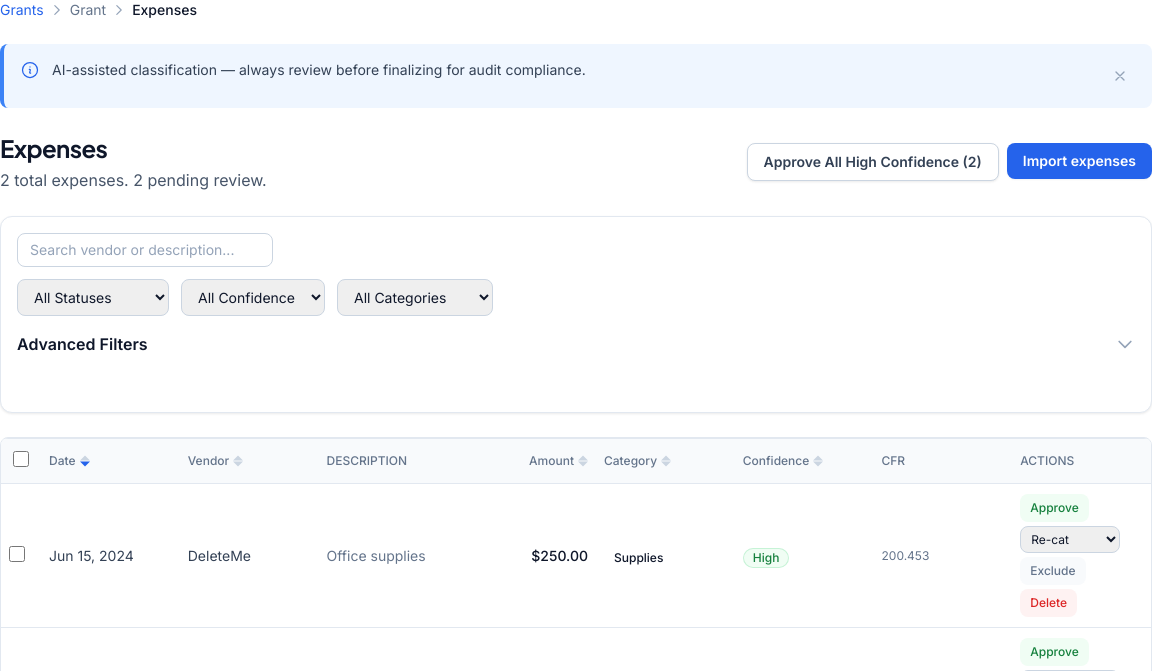
Test: ExpensesPage › optimistic delete removes expense from list
# Click delete on first expense (use aria-label to target desktop)
What coordinates should you click on to do the following:
click the button with aria-label "delete expense from deleteme"
I would click on:
 (1049, 603)
Its box is left=1020, top=589, right=1077, bottom=617.
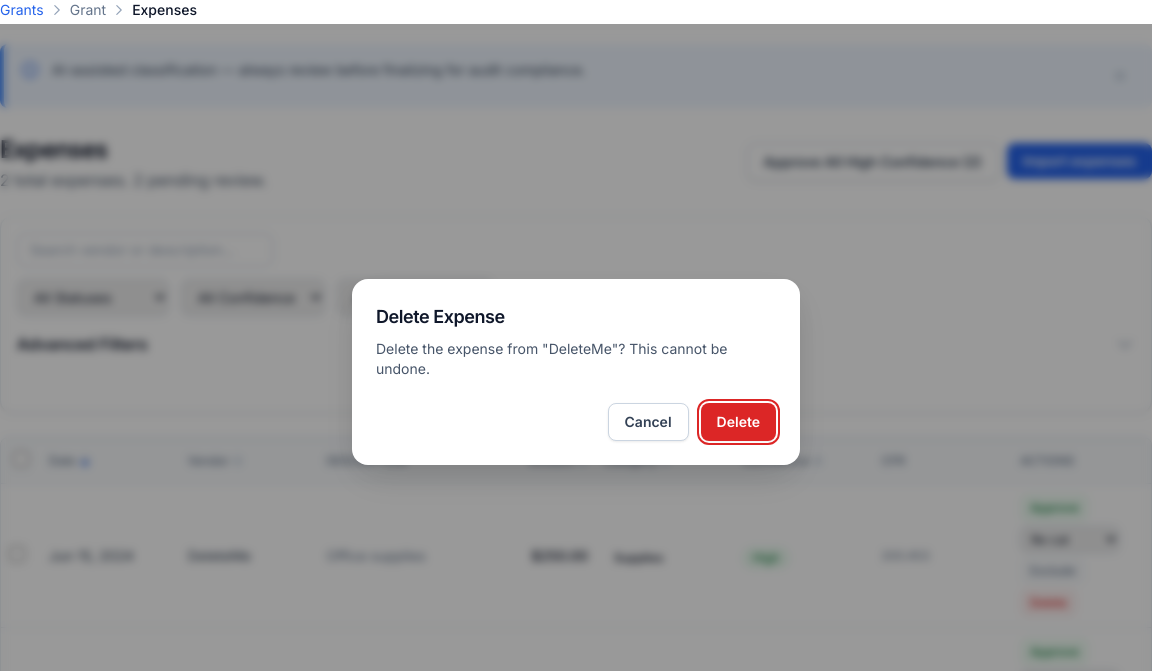
Check: the text "Delete the expense from \"DeleteMe\"? This cannot be undone." is shown, box left=376, top=339, right=776, bottom=379
What coordinates should you click on to do the following:
click the button "Delete"
I would click on:
 (738, 422)
Its box is left=701, top=403, right=776, bottom=441.
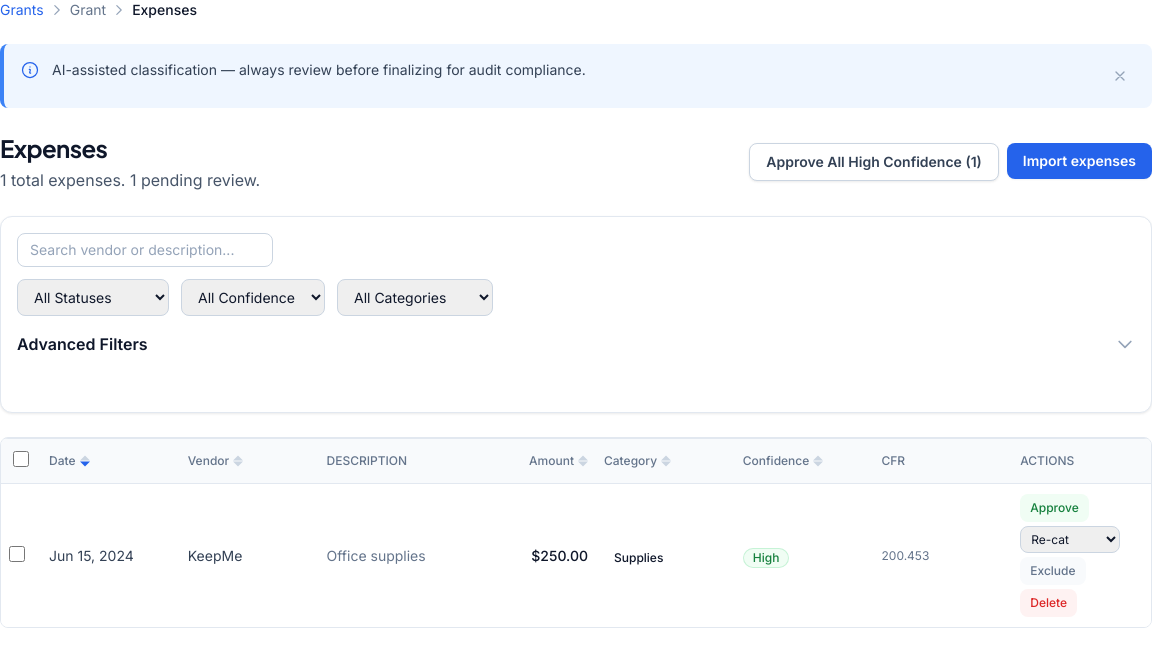
Check: the text "DeleteMe" is gone
